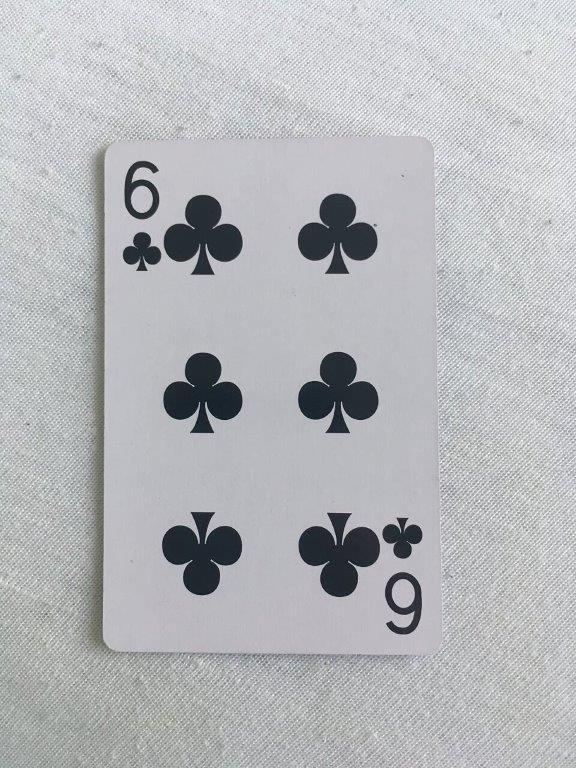6C: (99, 134, 444, 659)
